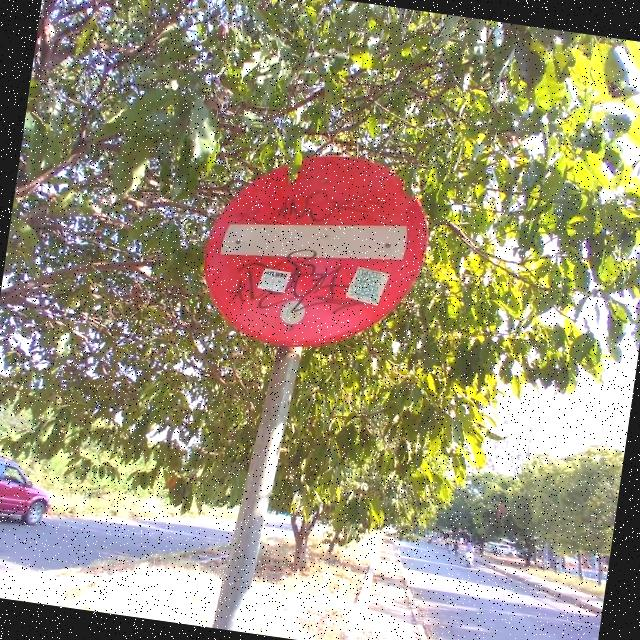Zakaz wjazdu: (195, 144, 436, 366)
